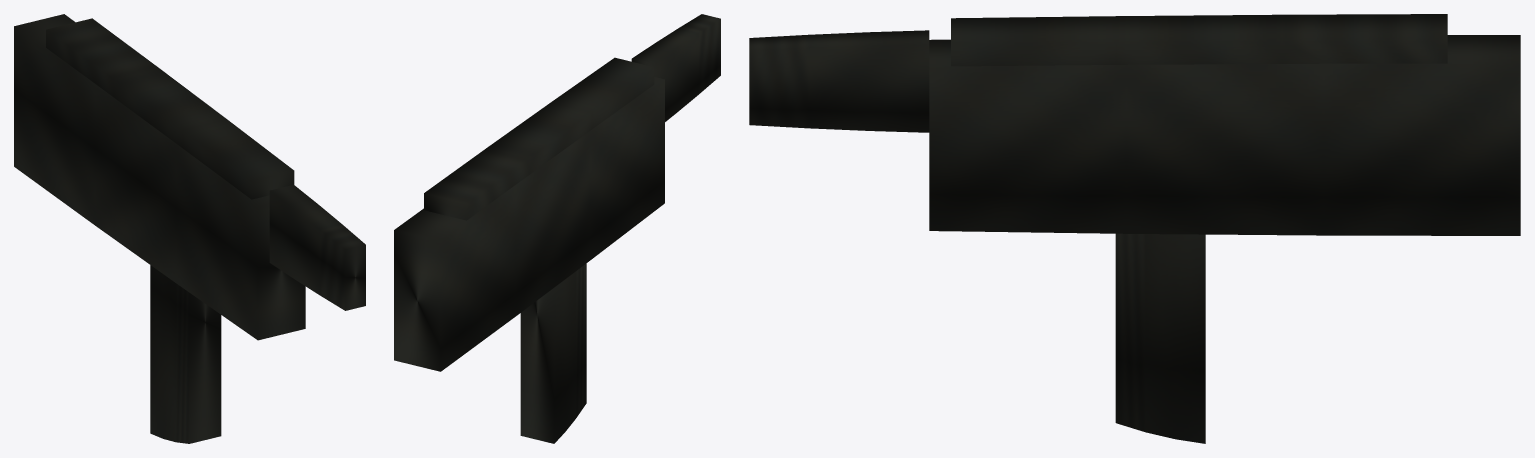
The model's file is wpn_p90_pdw.glb.
3 renders of one model, left to right at view 1: azimuth 30°, elevation 25°; view 2: azimuth 150°, elevation 25°; view 3: azimuth 270°, elevation 25°, orthographic. The views are drawn at different scales.
Visible parts, largest first — view 1: SubMesh_0_Receiver, SubMesh_1_Action, SubMesh_2_Magazine, SubMesh_3_BarrelSight; view 2: SubMesh_0_Receiver, SubMesh_1_Action, SubMesh_2_Magazine, SubMesh_3_BarrelSight; view 3: SubMesh_0_Receiver, SubMesh_1_Action, SubMesh_2_Magazine, SubMesh_3_BarrelSight.
Part boxes in pixels (x1,y1,x2,y2): SubMesh_0_Receiver: (14, 14, 305, 340); SubMesh_1_Action: (46, 18, 294, 199); SubMesh_2_Magazine: (150, 265, 221, 443); SubMesh_3_BarrelSight: (269, 184, 365, 310); SubMesh_0_Receiver: (394, 77, 664, 371); SubMesh_1_Action: (424, 57, 654, 220); SubMesh_2_Magazine: (520, 263, 586, 443); SubMesh_3_BarrelSight: (631, 14, 720, 121); SubMesh_0_Receiver: (929, 35, 1520, 235); SubMesh_1_Action: (951, 14, 1447, 66); SubMesh_2_Magazine: (1115, 233, 1205, 443); SubMesh_3_BarrelSight: (749, 30, 929, 132).
Bounding box in the file's own units: 0.055 × 0.3479 × 0.6.
1 material, 1 textured.
